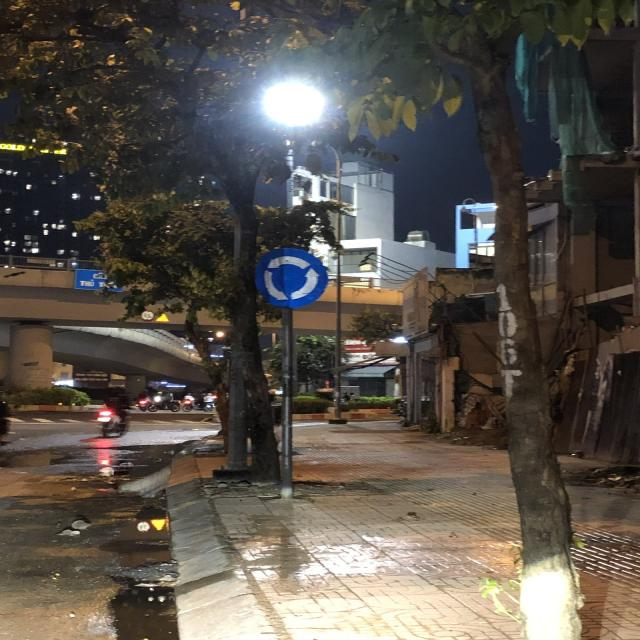Bien bao noi giao nhau chay theo vong xuyen: (249, 244, 330, 310)
